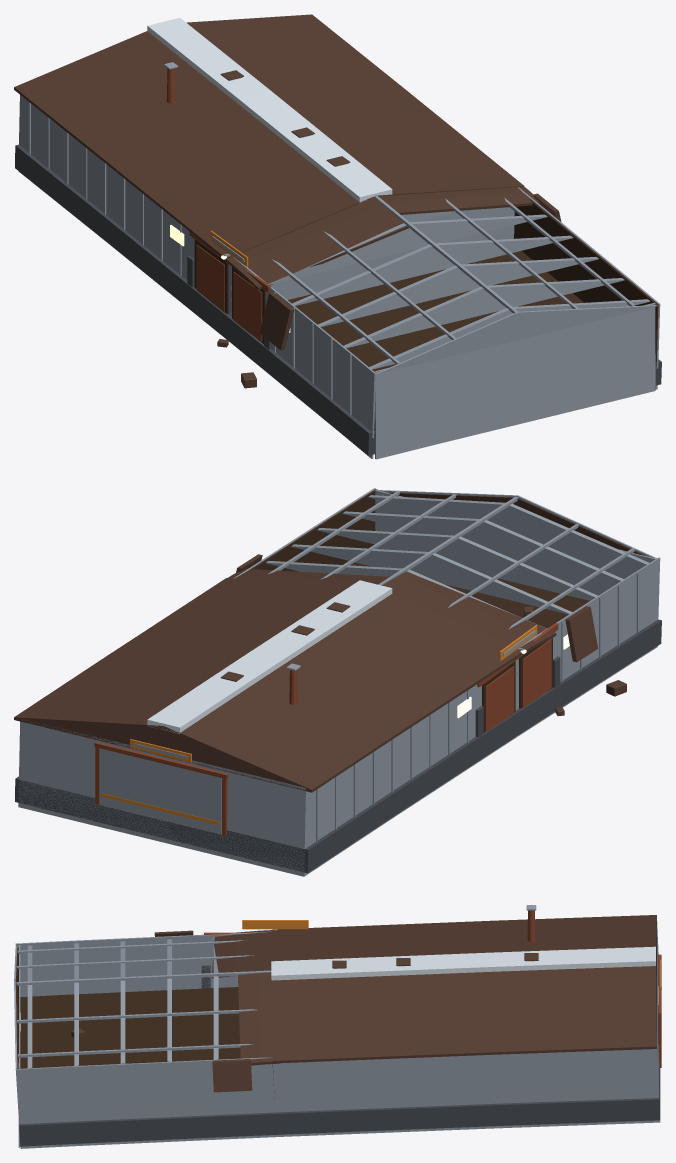
Rendered from DepotShed_-2_-2.fbx.
3 views of the same model, one above another, from view 1: azimuth 30°, elevation 25°; view 2: azimuth 150°, elevation 25°; view 3: azimuth 270°, elevation 25° (orthographic). The views are drawn at different scales.
Parts seen in each view (by area): view 1: DepotShed_-2_-2; view 2: DepotShed_-2_-2; view 3: DepotShed_-2_-2.
Boxes of the visible parts, left/top/right/bottom form: DepotShed_-2_-2: left=14, top=14, right=661, bottom=459; DepotShed_-2_-2: left=14, top=488, right=661, bottom=876; DepotShed_-2_-2: left=14, top=905, right=661, bottom=1148.
Bounding box in the file's own units: 3413 × 1573 × 6074.
